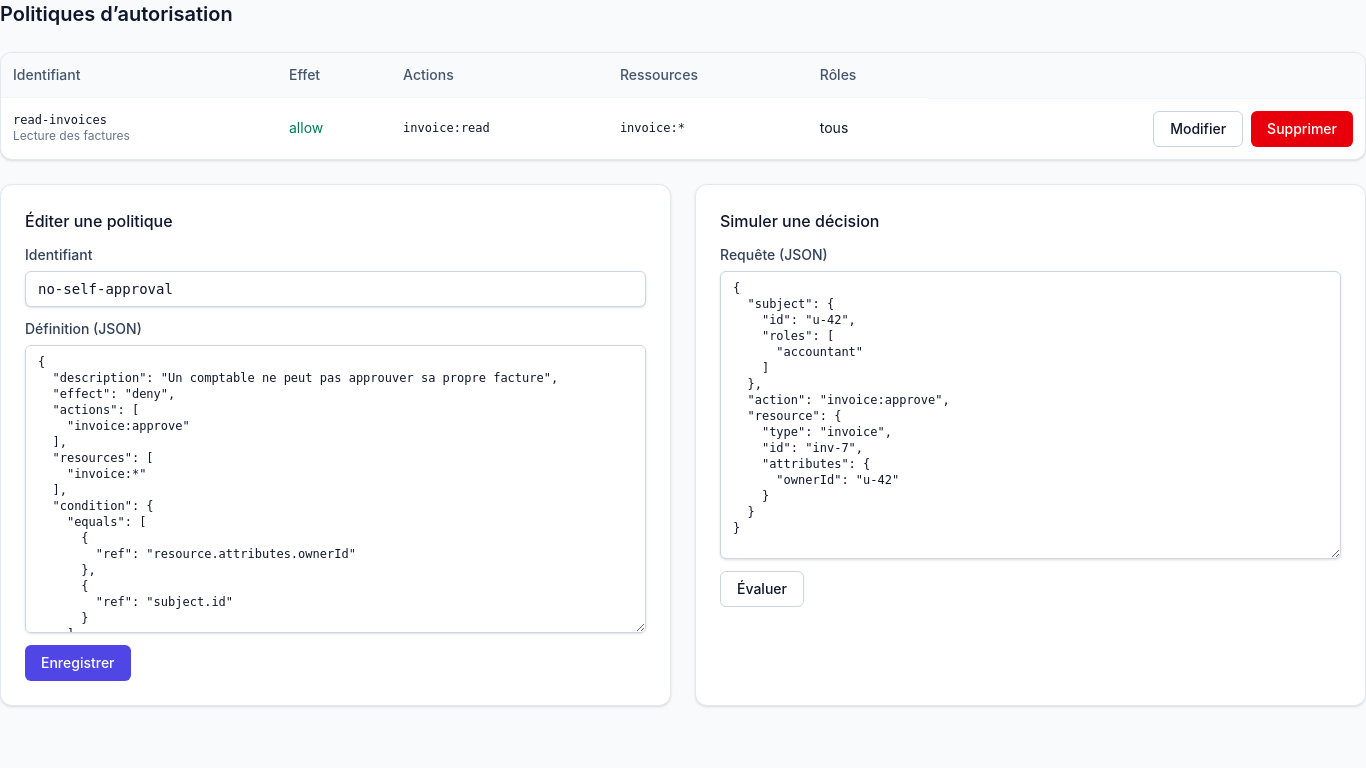
Test: PoliciesView › lists policies and saves the edited one
Click the button "Modifier" at (1198, 128), box x1=1153 y1=110 x2=1243 y2=146
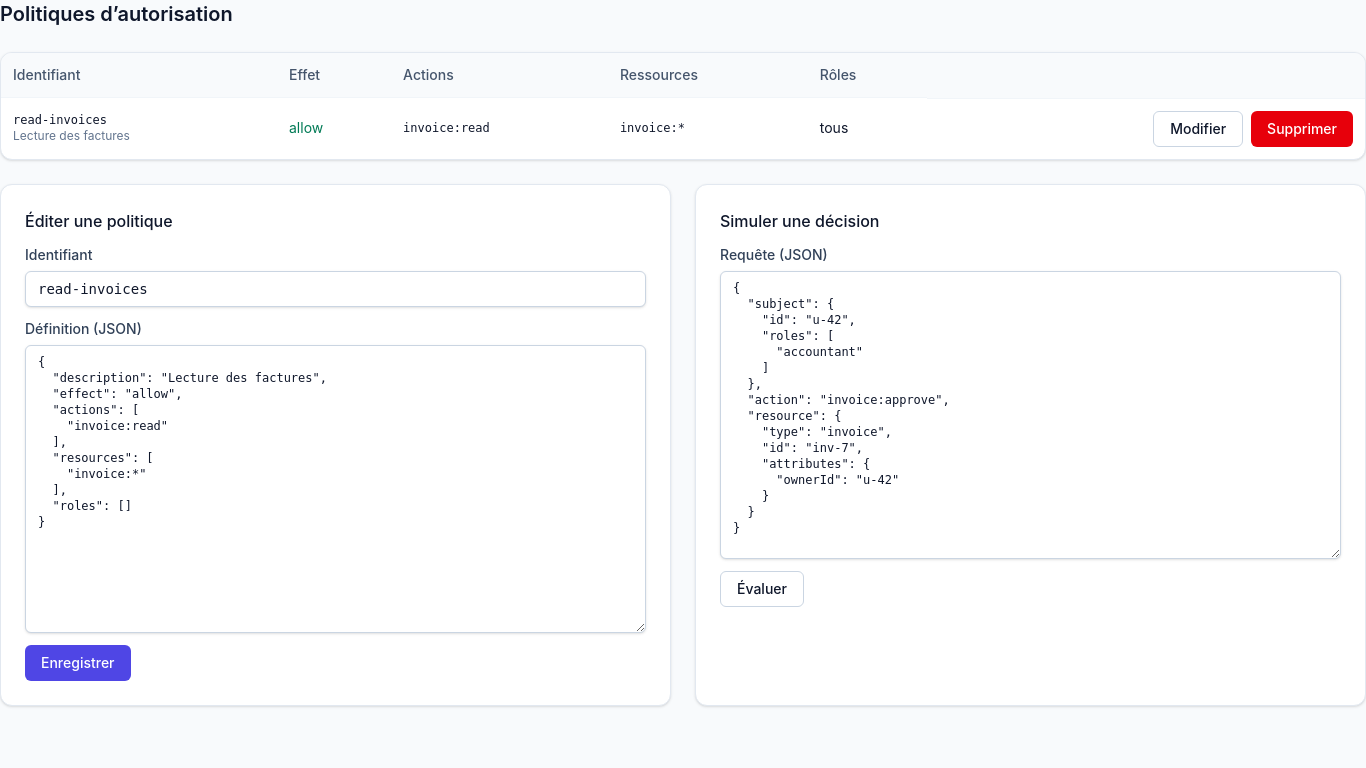
Submit the form that starts with "Éditer une politique", box x1=0 y1=184 x2=671 y2=706
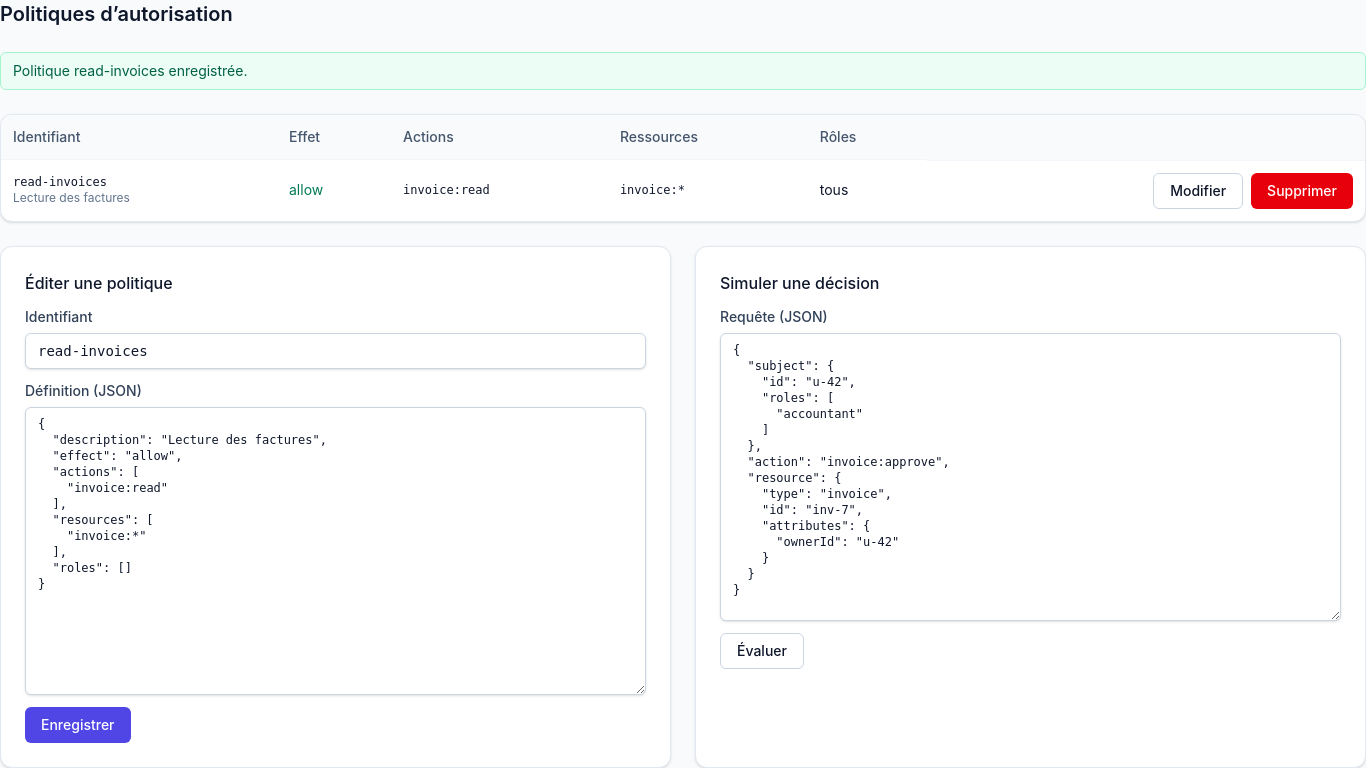
Now the text "Politique read-invoices enregistrée." is shown, box x1=0 y1=52 x2=1365 y2=90
